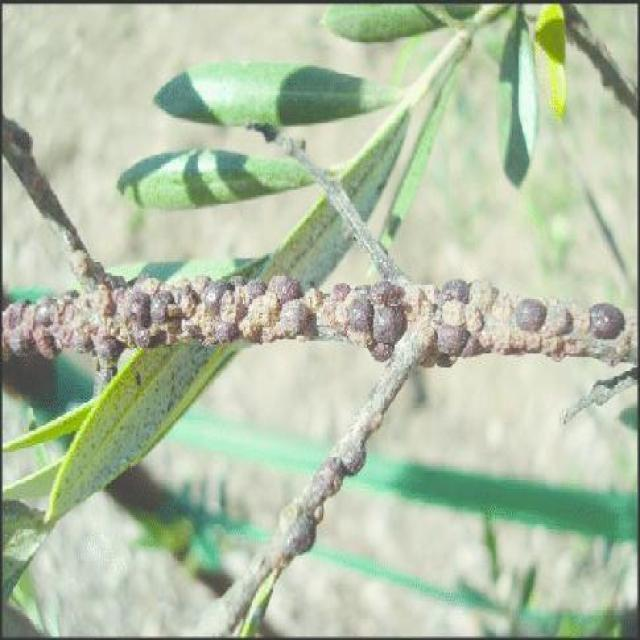BlackScale: (2, 250, 634, 382), (269, 427, 364, 580)
